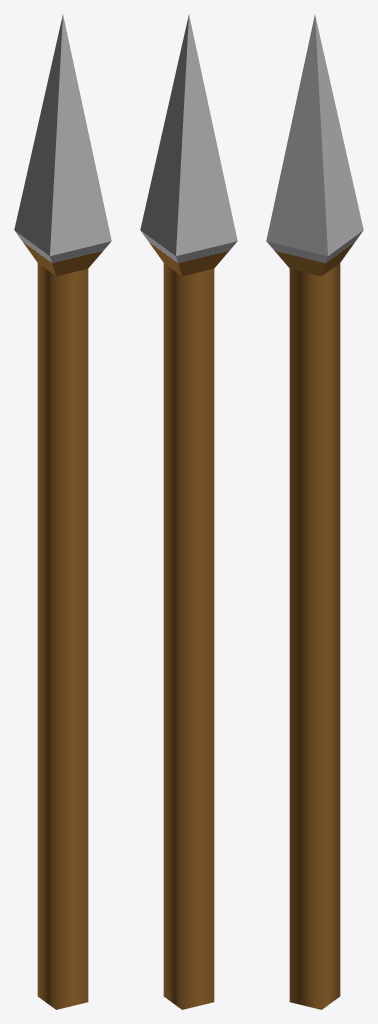
File: wp_ewok_crossbow_bolt_l0.fbx
The picture shows the model from 3 angles, left to right: view 1: azimuth 30°, elevation 25°; view 2: azimuth 210°, elevation 25°; view 3: azimuth 330°, elevation 25°; orthographic projection.
Parts seen in each view (by area): view 1: mesh_node; view 2: mesh_node; view 3: mesh_node.
Boxes of the visible parts, x1,y1,x2,y2 form: mesh_node: [14, 15, 111, 1009]; mesh_node: [140, 15, 237, 1009]; mesh_node: [266, 15, 363, 1009].
Bounding box in the file's own units: 0.0387 × 0.5889 × 0.0387.
